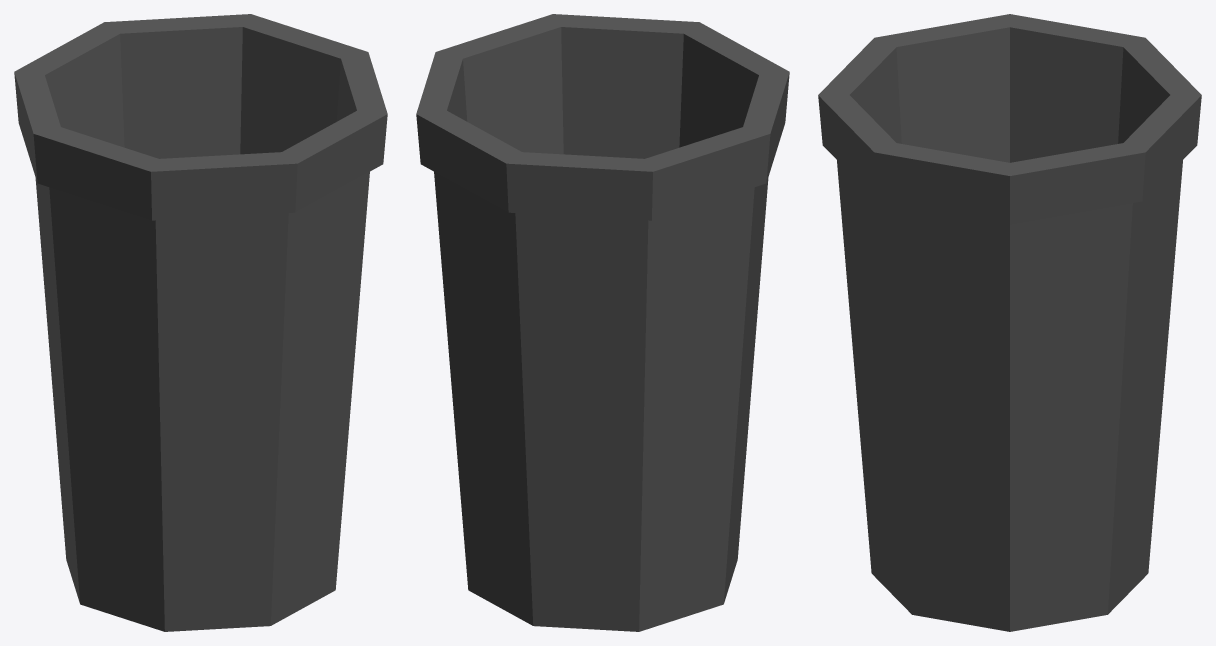
File: ToothbrushCup_02.fbx
The picture shows the model from 3 angles, left to right: view 1: azimuth 30°, elevation 25°; view 2: azimuth 150°, elevation 25°; view 3: azimuth 270°, elevation 25°; orthographic projection.
Parts seen in each view (by area): view 1: ToothbrushCup_02; view 2: ToothbrushCup_02; view 3: ToothbrushCup_02.
Boxes of the visible parts, bbox=[...] form: ToothbrushCup_02: bbox=[14, 14, 387, 631]; ToothbrushCup_02: bbox=[416, 14, 789, 631]; ToothbrushCup_02: bbox=[818, 14, 1201, 631].
Bounding box in the file's own units: 11.47 × 15.78 × 11.47.
